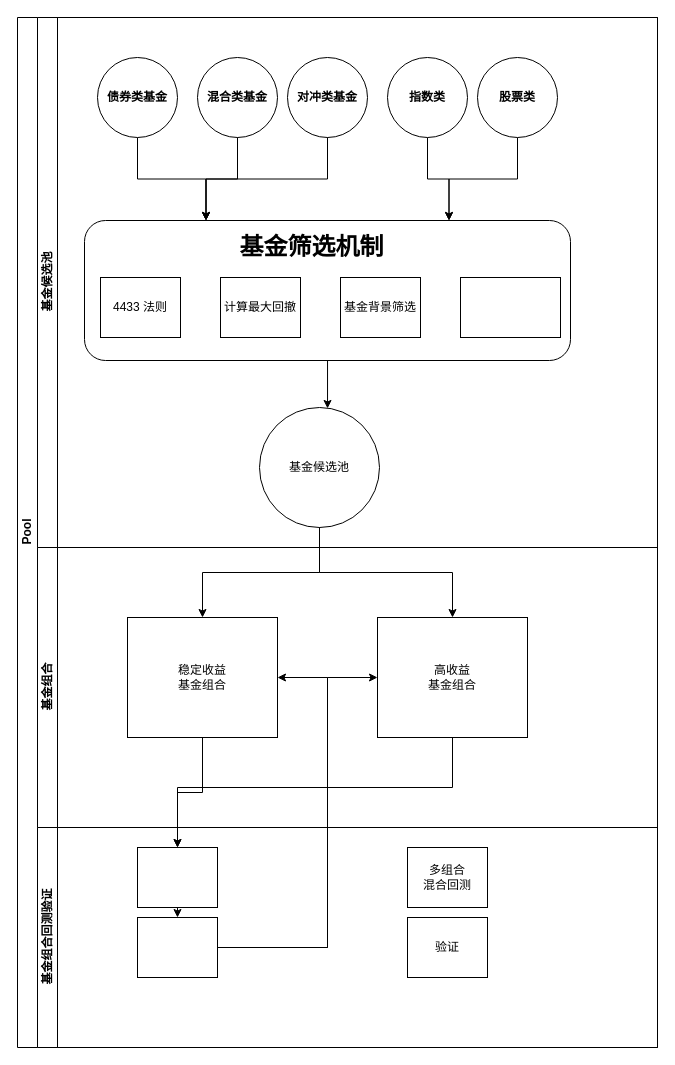
Image size: 675x1065. Some labels were removed from this diagram. The shapes that lost their labels are listed below. From the top down, each one's centre as x and y in pixels, then its label:
At [510,307]: "网络评论调查".
At [177,877]: "单组合回测".
At [177,947]: "验证组合 有效性".
